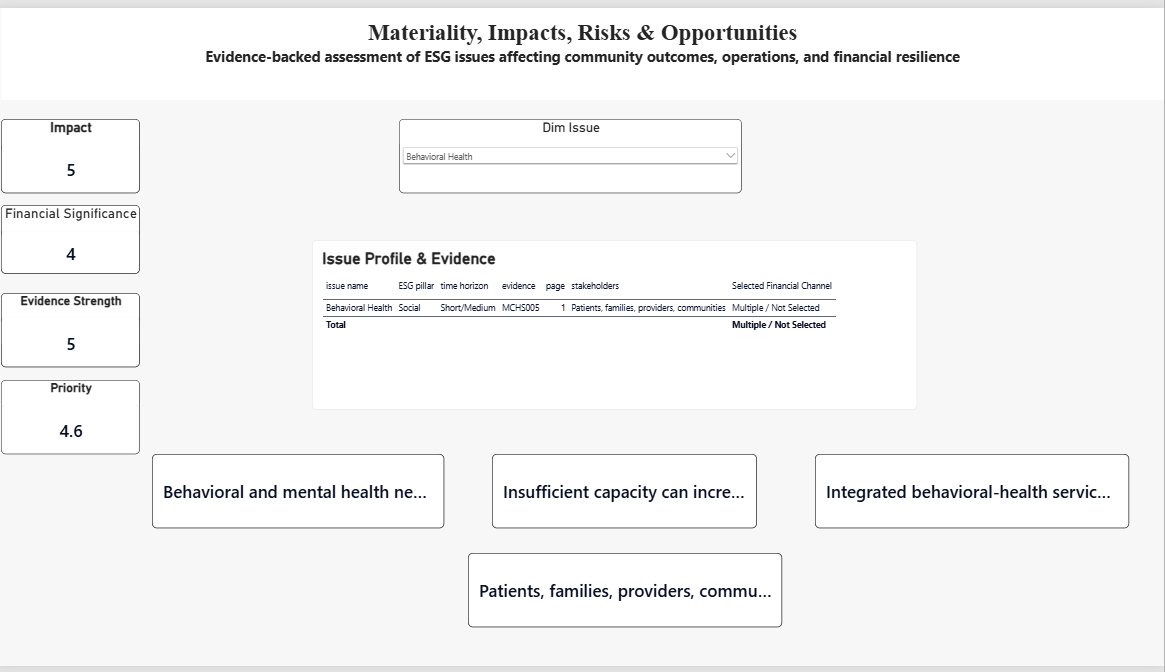

The dashboard page shown, as its layout file describes it:
{"tool":"powerbi","page":{"name":"Materiality, Impacts, Risks & Opportunities","canvas":[1920,1080],"ordinal":1},"visuals":[{"type":"textbox","box":[9.6,0,1910.4,151.1],"z":0},{"type":"cardVisual","title":"Impact","fields":{"Data":["Data_Quality.Selected Impact Score"]},"box":[9.9,182.3,228.3,121.5],"z":1000},{"type":"cardVisual","title":"Financial Significance","fields":{"Data":["Data_Quality.Selected Financial Score"]},"box":[9.9,323.6,228.3,113.3],"z":2000},{"type":"cardVisual","title":"Evidence Strength","fields":{"Data":["Data_Quality.Selected Evidence Strength"]},"box":[9.9,468.1,228.3,121.5],"z":3000},{"type":"cardVisual","title":"Priority","fields":{"Data":["Data_Quality.Selected Priority Score"]},"box":[9.9,611,228.3,121.5],"z":4000},{"type":"tableEx","title":"Issue Profile & Evidence","fields":{"Values":["executive_esg_summary.issue_name","executive_esg_summary.esg_pillar","executive_esg_summary.time_horizon","executive_esg_summary.evidence_source","executive_esg_summary.evidence_page","executive_esg_summary.stakeholders","Data_Quality.Selected Financial Channel"]},"box":[520.7,381,993.7,279.2],"z":5000},{"type":"slicer","title":"Dim Issue","fields":{"Values":["executive_esg_summary.issue_name"]},"box":[663.5,182.3,563.4,121.5],"z":6000},{"type":"cardVisual","fields":{"Data":["Data_Quality.Selected Impact Description"]},"box":[257.9,732.5,479.6,121.5],"z":7000},{"type":"cardVisual","fields":{"Data":["Data_Quality.Selected Risk Description"]},"box":[816.3,732.5,435.2,121.5],"z":8000},{"type":"cardVisual","fields":{"Data":["Data_Quality.Selected Opportunity Description"]},"box":[1346.8,732.5,515.7,121.5],"z":9000},{"type":"cardVisual","fields":{"Data":["Data_Quality.Selected Stakeholders"]},"box":[147.8,893.5,515.7,121.5],"z":9001},{"type":"textbox","box":[775.2,893.5,1110.3,121.5],"z":9002}]}

Visuals, with their boxes in screenshot pixels (x1, y1, x2, y2), scaled from the page's 1920x1080 canvas onto the 1165x672 screenshot:
textbox: box(6, 0, 1164, 94)
"Impact" cardVisual: box(6, 113, 145, 189)
"Financial Significance" cardVisual: box(6, 201, 145, 272)
"Evidence Strength" cardVisual: box(6, 291, 145, 367)
"Priority" cardVisual: box(6, 380, 145, 456)
"Issue Profile & Evidence" tableEx: box(316, 237, 919, 411)
"Dim Issue" slicer: box(403, 113, 744, 189)
cardVisual - Data_Quality.Selected Impact Description: box(156, 456, 447, 531)
cardVisual - Data_Quality.Selected Risk Description: box(495, 456, 759, 531)
cardVisual - Data_Quality.Selected Opportunity Description: box(817, 456, 1130, 531)
cardVisual - Data_Quality.Selected Stakeholders: box(90, 556, 403, 632)
textbox: box(470, 556, 1144, 632)
